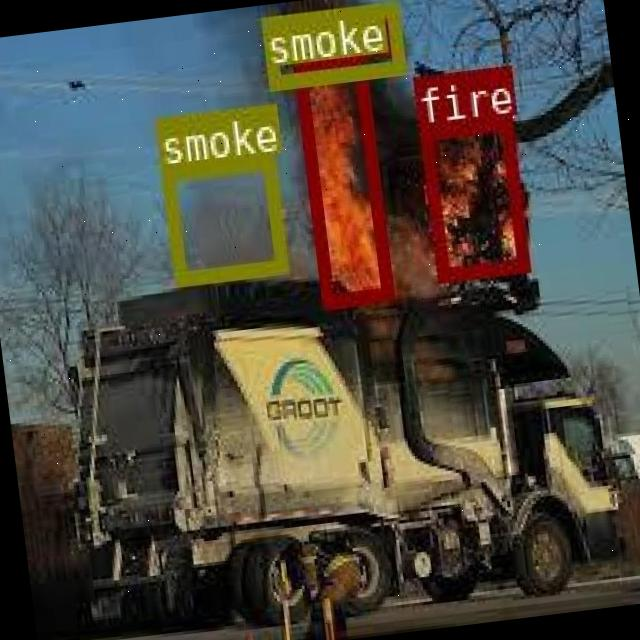fire: (293, 58, 390, 306), (416, 114, 526, 280)
smoke: (157, 150, 286, 282), (257, 0, 403, 85)
